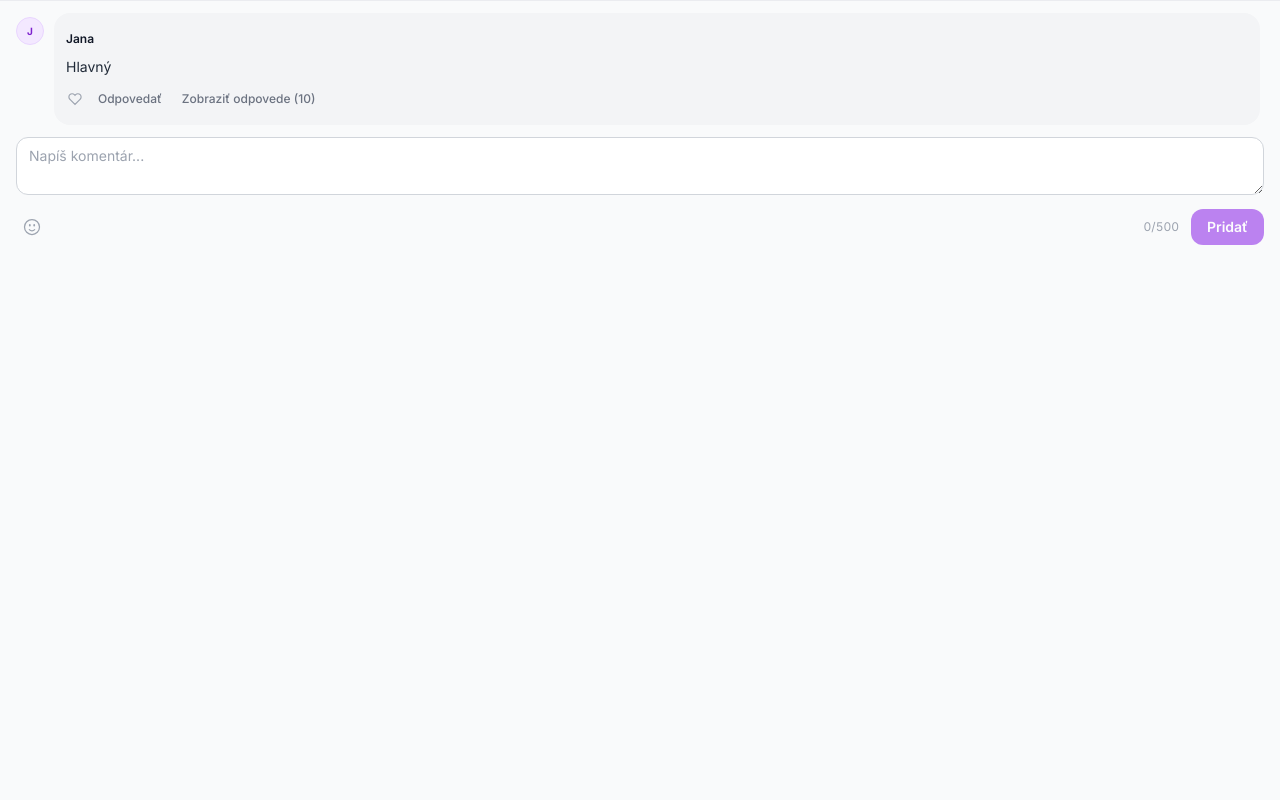
Test: zbalené odpovede › collapses again on a second click
The image size is (1280, 800).
Expected: the text "Hlavný" is shown, [66,58,111,75]
Step 1. Click the button with test id "feed-comment-toggle-replies-1" → point(249, 99), box [176,81,321,117]
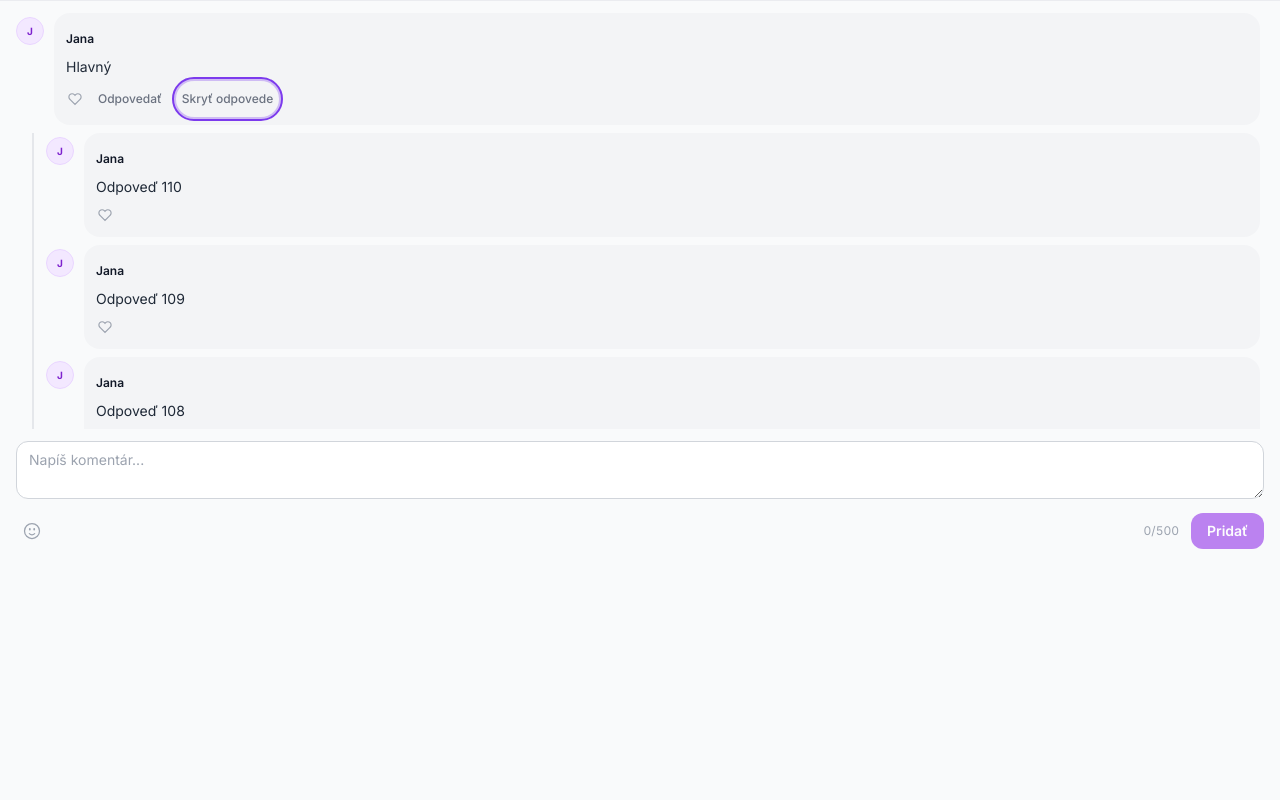
Expected: the button with test id "feed-comment-toggle-replies-1" reads "Skryť odpovede"
Expected: the button with test id "feed-comment-toggle-replies-1" is expanded
Step 2. Click the button with test id "feed-comment-toggle-replies-1" → point(228, 99), box [176,81,279,117]
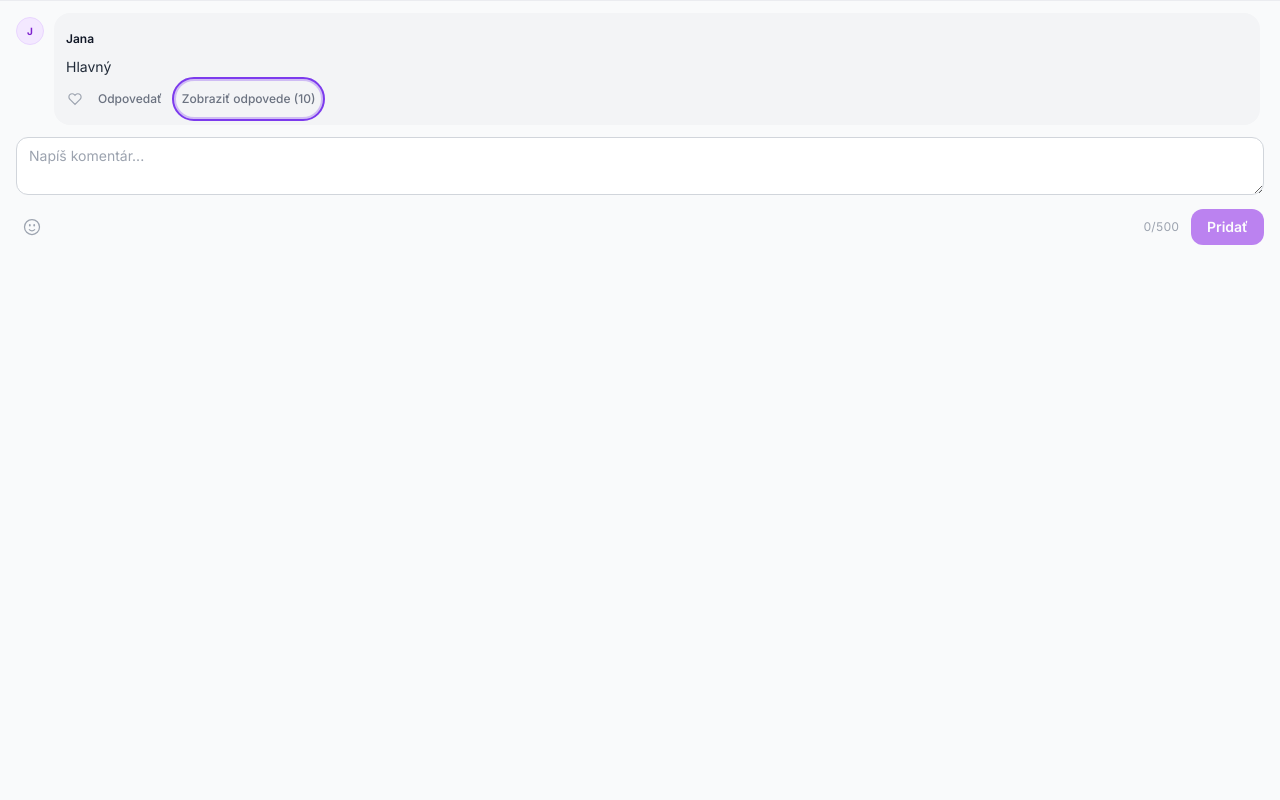
Expected: the button with test id "feed-comment-toggle-replies-1" is collapsed, [176,81,321,117]
